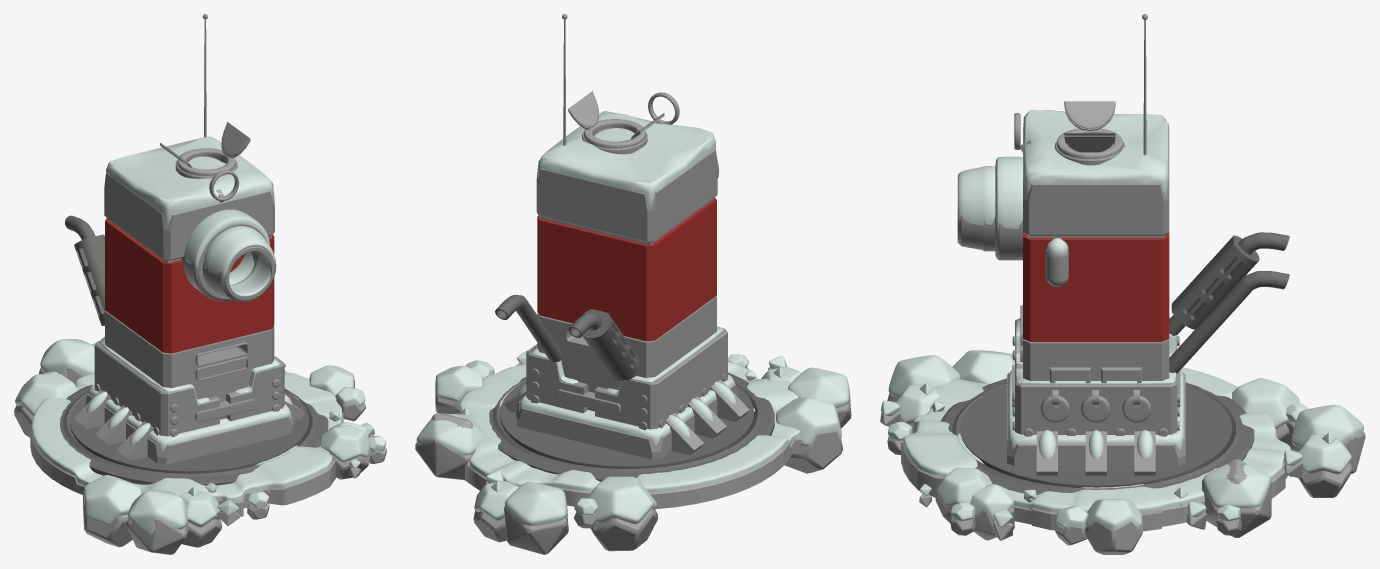
Rendered from GunTurretFBX.fbx.
3 views of the same model, side by side, from view 1: azimuth 30°, elevation 25°; view 2: azimuth 150°, elevation 25°; view 3: azimuth 270°, elevation 25° (orthographic). The views are drawn at different scales.
Parts seen in each view (by area): view 1: pCube3, pCylinder34, pCube40, polySurface4, pCube2, pCube1, pCylinder3, pPipe13 (×2), pPipe17, pSolid165 (×2), pSolid168 (×2), pCube8 (+18 smaller); view 2: pCube3, pCylinder34, pCube2, pCube40, polySurface4, pCube1, pCylinder3, pSolid161 (×2), pPipe17, pSolid157 (×2), pSolid168 (×2), pCube8 (+16 smaller); view 3: pCube3, pCylinder34, pCylinder3, pCube40, pCube2, pCube6, polySurface4, pPipe17, pPipe26 (×2), pSolid137 (×2), polySurface20, pPipe13 (×2) (+22 smaller).
Part boxes in pixels (box(x1,y1,x2,y2)): pCube3: box(105, 218, 274, 353); pCylinder34: box(31, 372, 342, 502); pCube40: box(106, 136, 273, 228); polySurface4: box(105, 311, 274, 399); pCube2: box(104, 172, 274, 260); pCube1: box(94, 340, 219, 436); pCylinder3: box(70, 390, 309, 473); pPipe13 (×2): box(202, 226, 276, 302); pPipe17: box(60, 385, 328, 485); pSolid165 (×2): box(126, 490, 188, 554); pSolid168 (×2): box(83, 475, 142, 547); pCube8: box(85, 393, 293, 464); pCube3: box(537, 197, 716, 341); pCylinder34: box(459, 361, 799, 492); pCube2: box(536, 148, 717, 242); pCube40: box(538, 111, 715, 207); polySurface4: box(537, 296, 716, 389); pCube1: box(595, 328, 727, 429); pCylinder3: box(500, 380, 754, 468); pSolid161 (×2): box(587, 476, 657, 551); pPipe17: box(489, 372, 774, 481); pSolid157 (×2): box(504, 482, 568, 554); pSolid168 (×2): box(775, 397, 842, 473); pCube8: box(516, 383, 737, 459); pCube3: box(1023, 232, 1169, 341); pCylinder34: box(903, 367, 1290, 512); pCylinder3: box(960, 385, 1231, 487); pCube40: box(1023, 109, 1168, 198); pCube2: box(1023, 127, 1169, 235); pCube6: box(1015, 370, 1177, 434); polySurface4: box(1023, 339, 1169, 380); pPipe17: box(941, 378, 1254, 494); pPipe26 (×2): box(1169, 232, 1289, 373); pSolid137 (×2): box(1202, 459, 1271, 537); polySurface20: box(1171, 235, 1259, 329); pPipe13 (×2): box(957, 166, 995, 251).
Size of what is drawn, in the model's own units: 8.74 by 11.31 by 9.93.
